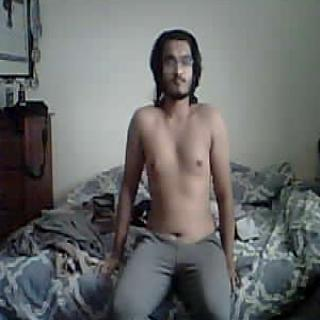Gray Sweatpants: (116, 234, 233, 320)
